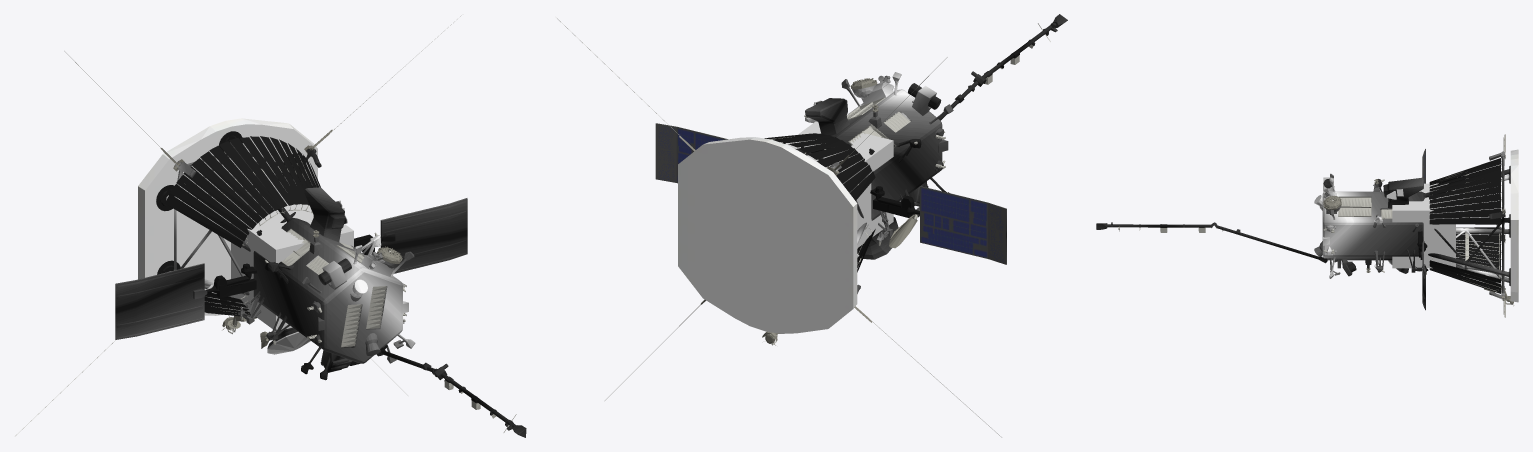
Rendered from parker.glb.
The picture shows the model from 3 angles, left to right: view 1: azimuth 30°, elevation 25°; view 2: azimuth 150°, elevation 25°; view 3: azimuth 270°, elevation 25°; orthographic projection. The views are drawn at different scales.
Parts seen in each view (by area): view 1: Cylinder.008, CoolingSystem, Cylinder.053, solarWing_LeftBacking, solarWing_RightBacking, Cube.027, vents, Cylinder.128, Cube.025, heatShield_Mounting, HGA; view 2: Cylinder.053, Cylinder.008, CoolingSystem, Cube.027, Cube.025, vents, Cylinder.128; view 3: Cylinder.008, CoolingSystem, Cube.027, Cylinder.053, Cube.025, vents.
Part boxes in pixels (<box>): Cylinder.008: <box>166,142,415,380</box>; CoolingSystem: <box>165,136,320,317</box>; Cylinder.053: <box>138,118,434,348</box>; solarWing_LeftBacking: <box>115,264,204,339</box>; solarWing_RightBacking: <box>381,198,467,273</box>; Cube.027: <box>231,203,353,331</box>; vents: <box>281,229,386,347</box>; Cylinder.128: <box>193,233,395,299</box>; Cube.025: <box>377,345,526,437</box>; heatShield_Mounting: <box>156,131,306,308</box>; HGA: <box>267,331,310,354</box>; Cylinder.053: <box>655,78,1006,345</box>; Cylinder.008: <box>795,72,953,293</box>; CoolingSystem: <box>764,133,875,272</box>; Cube.027: <box>785,121,893,247</box>; Cube.025: <box>938,14,1067,120</box>; vents: <box>847,97,910,147</box>; Cylinder.128: <box>870,186,919,217</box>; Cylinder.008: <box>1314,151,1509,299</box>; CoolingSystem: <box>1429,158,1501,293</box>; Cube.027: <box>1392,183,1455,268</box>; Cylinder.053: <box>1323,134,1518,317</box>; Cube.025: <box>1096,222,1327,263</box>; vents: <box>1338,196,1392,218</box>.
Size of the model in its own units: 5.75 by 5.26 by 6.61.
Materials: 6 (2 with a texture image).
